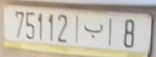1: (46, 12, 55, 42), (37, 11, 44, 42)
2: (56, 13, 70, 42)
5: (25, 10, 36, 40)
7: (15, 9, 24, 41)
8: (124, 17, 134, 48)
b: (83, 20, 103, 40)
